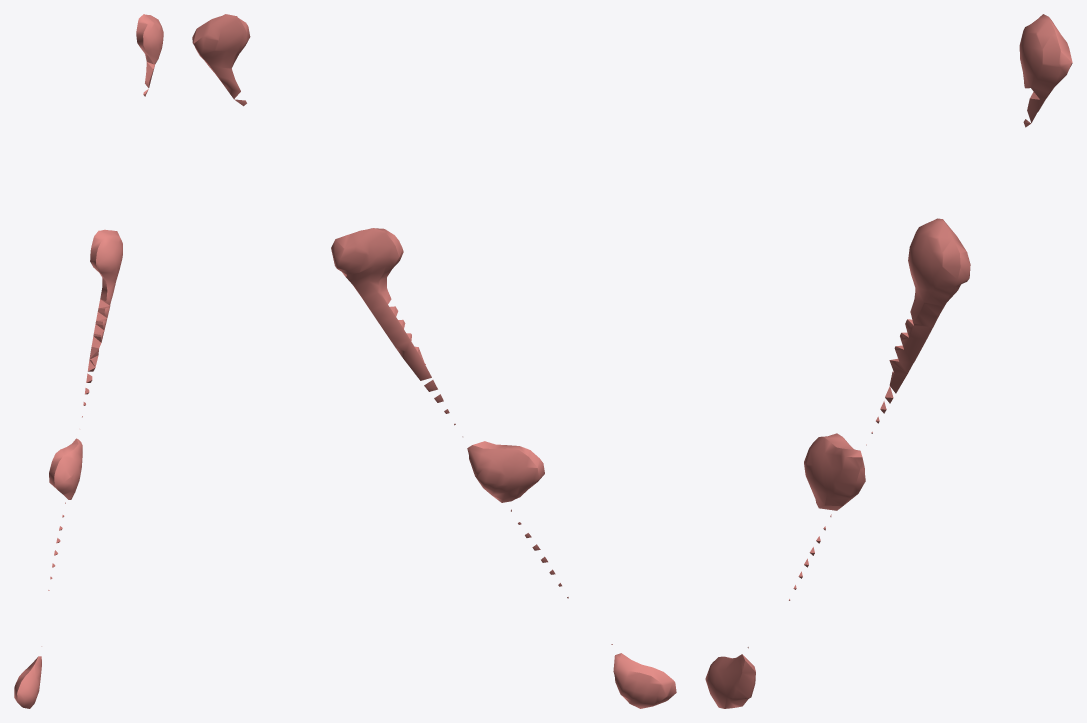
The model's file is detail.mollified.dcfs.+.glb.
The picture shows the model from 3 angles, left to right: view 1: azimuth 30°, elevation 25°; view 2: azimuth 150°, elevation 25°; view 3: azimuth 270°, elevation 25°; orthographic projection. The views are drawn at different scales.
Parts seen in each view (by area): view 1: detail.mollified.dcfs.+; view 2: detail.mollified.dcfs.+; view 3: detail.mollified.dcfs.+.
Boxes of the visible parts, x1=… form: detail.mollified.dcfs.+: x1=14, y1=14, x2=163, y2=708; detail.mollified.dcfs.+: x1=192, y1=14, x2=676, y2=708; detail.mollified.dcfs.+: x1=705, y1=14, x2=1072, y2=708.
Bounding box in the file's own units: 0.6694 × 1.38 × 0.5383.
